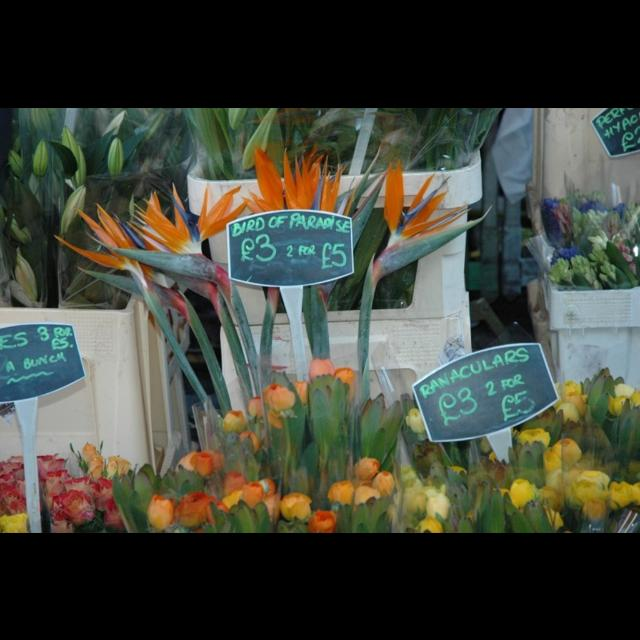Flower: (1, 362, 640, 532), (27, 108, 321, 356), (50, 157, 506, 281), (544, 190, 638, 288), (310, 510, 338, 532)
